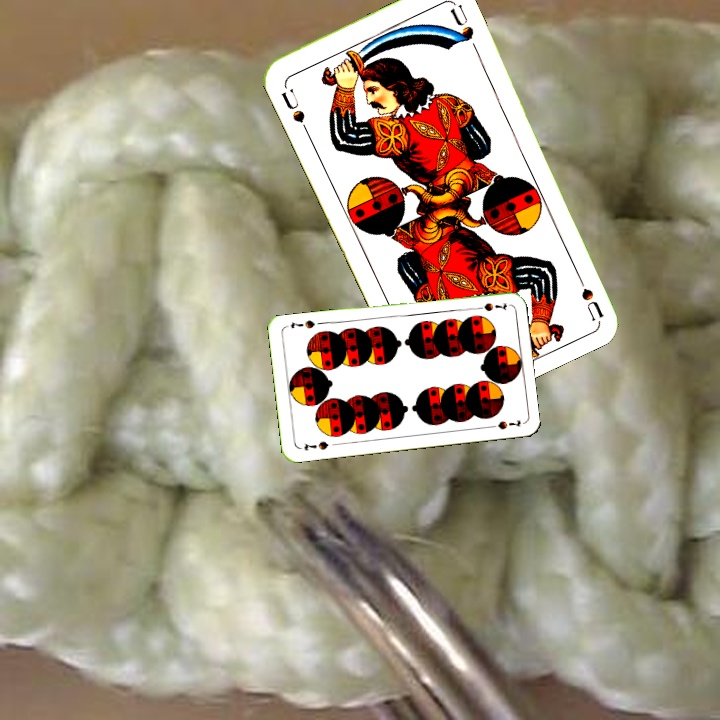S7: (470, 299, 509, 314), (300, 437, 331, 453)
SU: (570, 264, 606, 322), (277, 81, 312, 136)
